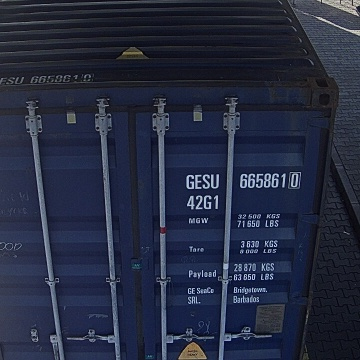serial_id: (185, 172, 299, 189)
